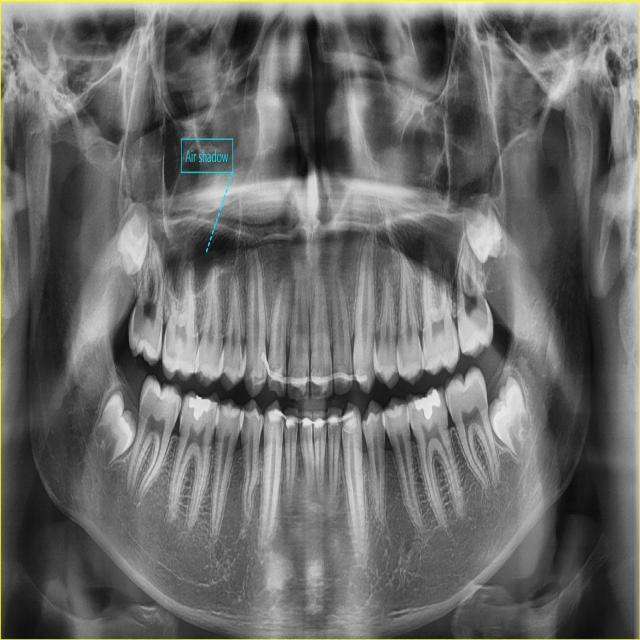NucleOSS Implant: (412, 389, 447, 422), (187, 394, 210, 423)
Sterngold Implant: (151, 390, 167, 406), (408, 406, 418, 428), (171, 397, 181, 418), (137, 331, 152, 344), (166, 348, 178, 361)
